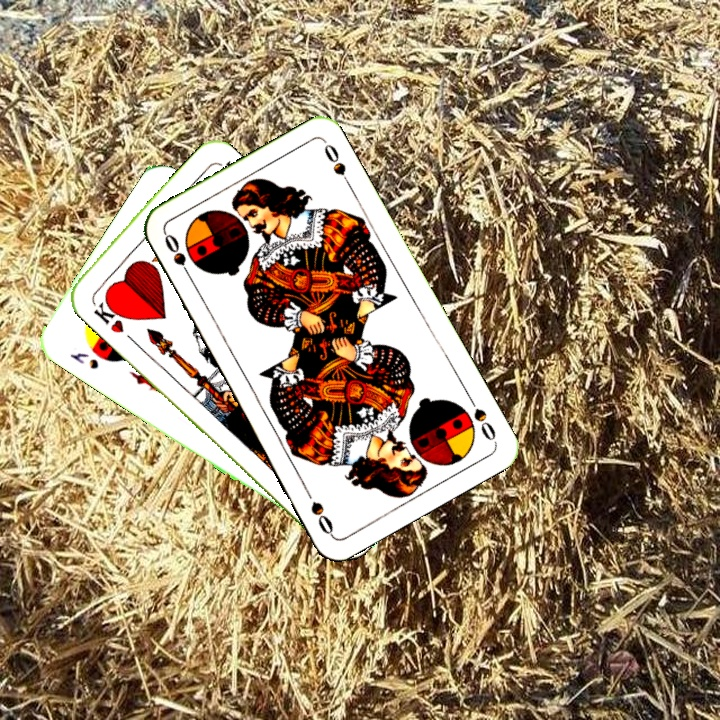HK: (90, 293, 130, 336)
SK: (65, 348, 102, 372)
SO: (160, 229, 196, 284), (463, 391, 499, 445)
